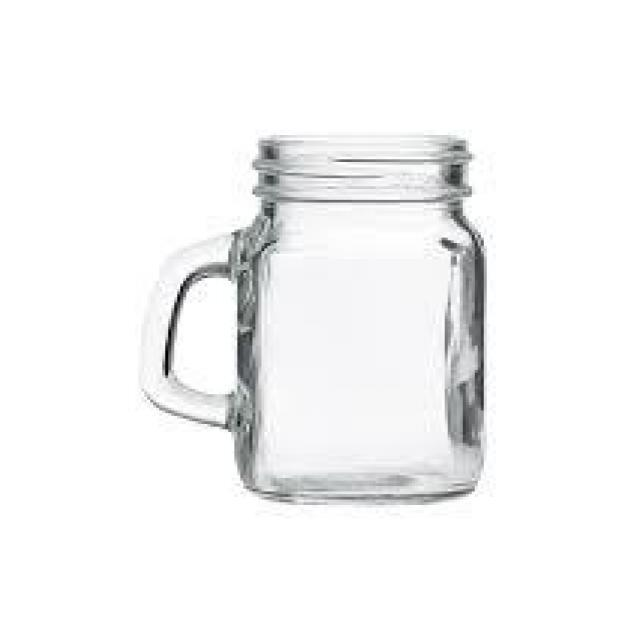glass: (136, 134, 492, 506)
